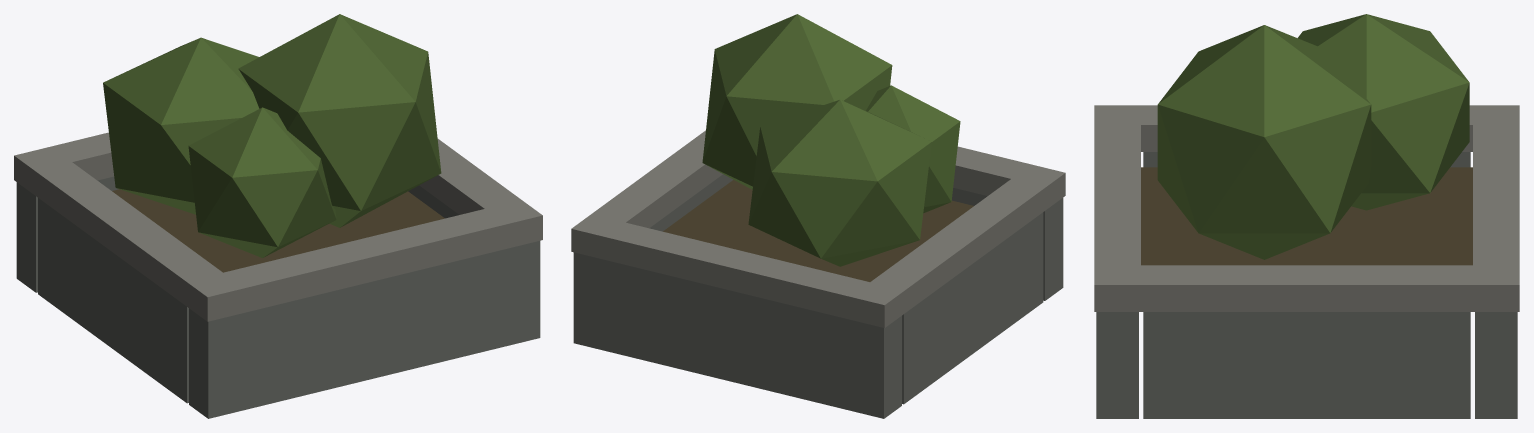
Rendered from court_Planter_2x2.glb.
3 renders of one model, left to right at view 1: azimuth 30°, elevation 25°; view 2: azimuth 150°, elevation 25°; view 3: azimuth 270°, elevation 25°, orthographic. The views are drawn at different scales.
Parts seen in each view (by area): view 1: court_Planter_2x2; view 2: court_Planter_2x2; view 3: court_Planter_2x2.
Part boxes in pixels (x1,y1,x2,y2): court_Planter_2x2: (14,14,542,418); court_Planter_2x2: (571,14,1065,418); court_Planter_2x2: (1094,14,1519,418).
Bounding box in the file's own units: 2 × 1.7 × 2.
